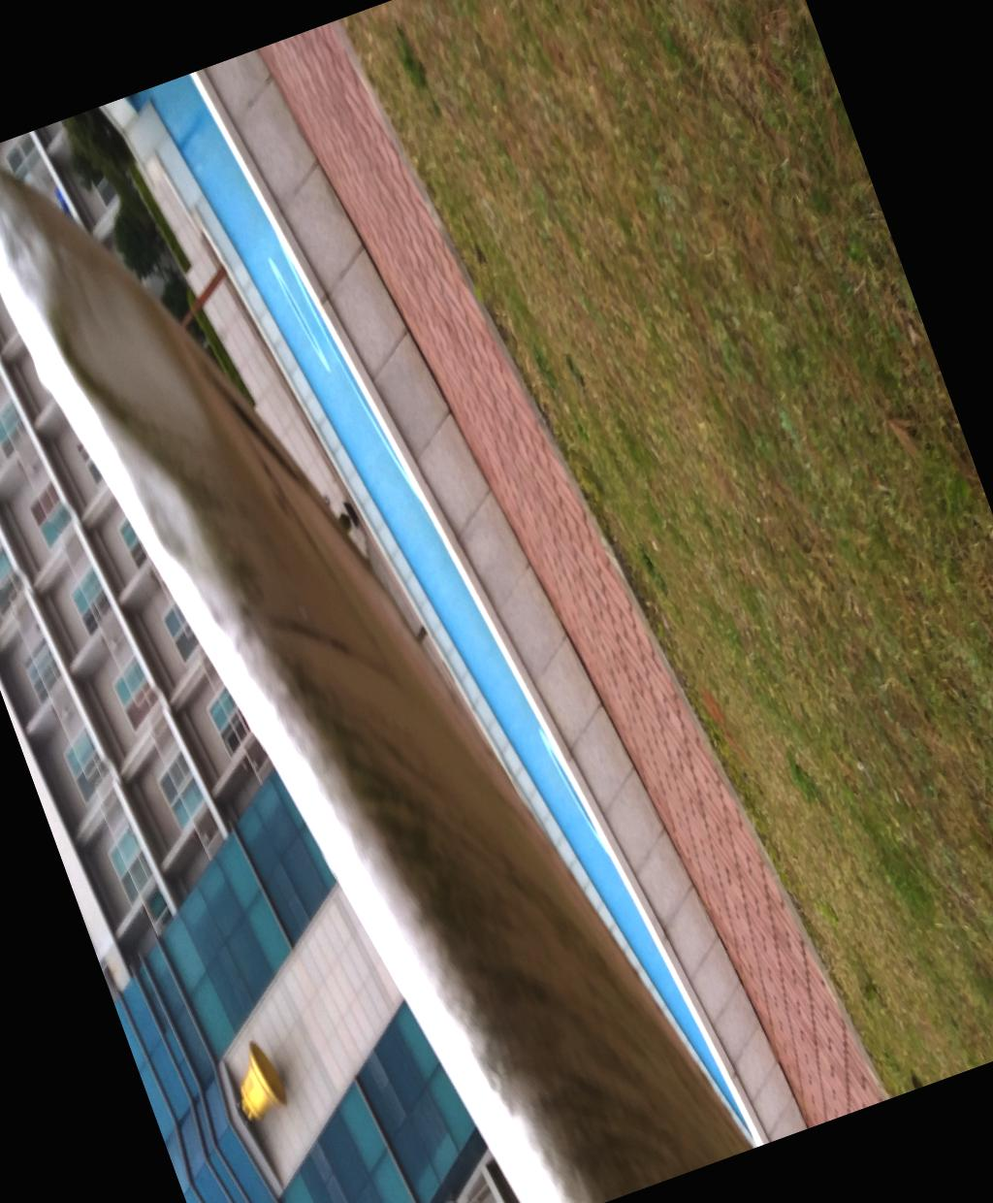dent: (343, 516, 561, 813), (320, 593, 422, 726)
